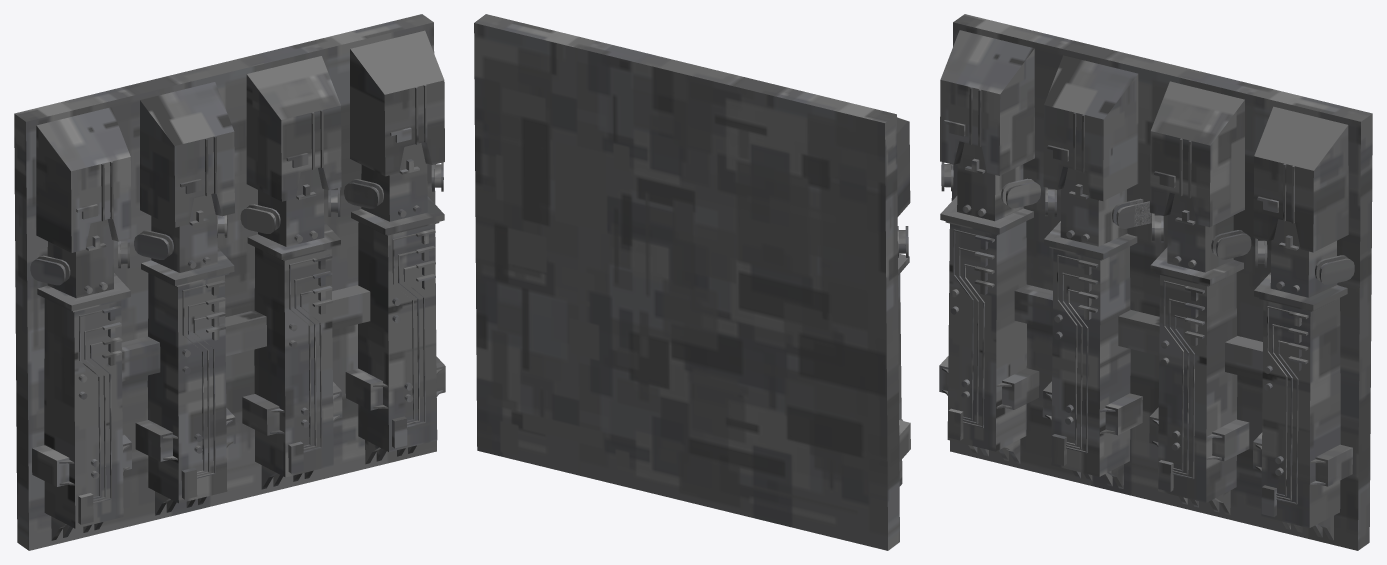
File: block 4units first.fbx
3 renders of one model, left to right at view 1: azimuth 30°, elevation 25°; view 2: azimuth 150°, elevation 25°; view 3: azimuth 330°, elevation 25°, orthographic.
Parts seen in each view (by area): view 1: block7; view 2: block7; view 3: block7.
Boxes of the visible parts, x1=… form: block7: x1=14, y1=14, x2=445, y2=550; block7: x1=474, y1=14, x2=910, y2=550; block7: x1=939, y1=14, x2=1372, y2=550.
Bounding box in the file's own units: 10.13 × 10.01 × 1.8.
